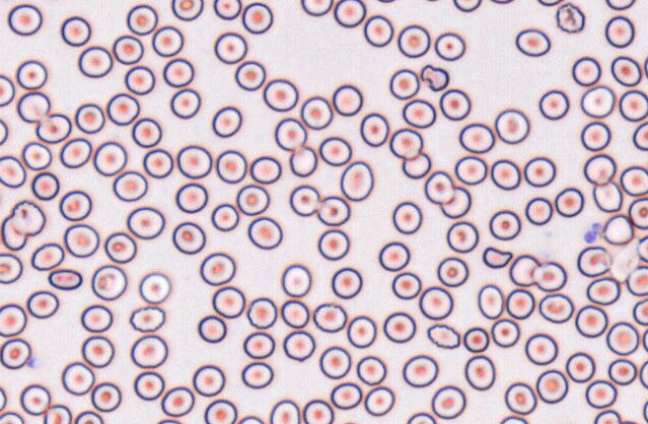PLT: (583, 230, 598, 244), (591, 222, 602, 234)
RBC: (339, 160, 374, 201), (91, 264, 127, 300), (494, 108, 530, 144), (10, 199, 45, 236), (130, 334, 168, 368), (126, 206, 165, 239), (176, 144, 212, 179), (199, 251, 236, 285), (418, 285, 453, 320), (431, 384, 466, 419), (63, 223, 99, 257), (93, 140, 127, 176), (262, 78, 298, 112), (402, 354, 438, 387), (574, 304, 608, 338), (61, 361, 95, 395), (106, 92, 140, 126), (535, 369, 568, 404), (7, 3, 42, 36), (300, 95, 333, 130), (247, 216, 282, 249), (580, 85, 615, 118), (576, 245, 612, 277), (77, 45, 113, 77), (458, 122, 495, 153), (274, 117, 307, 151), (211, 285, 245, 318), (606, 321, 639, 355), (504, 381, 537, 415), (524, 332, 558, 365), (213, 31, 247, 64), (397, 24, 430, 58), (112, 170, 147, 202), (532, 260, 567, 292), (35, 112, 71, 143), (464, 354, 495, 390), (446, 220, 479, 253), (138, 271, 171, 304), (81, 335, 114, 368), (172, 221, 205, 254), (16, 91, 50, 123), (389, 127, 423, 159), (58, 189, 92, 221), (319, 345, 351, 379), (215, 149, 247, 183), (538, 293, 574, 323), (508, 253, 540, 286), (282, 329, 315, 361), (330, 266, 362, 299), (317, 228, 350, 260), (192, 364, 225, 396), (583, 153, 616, 185), (151, 25, 184, 57), (383, 311, 416, 343), (523, 155, 556, 187), (104, 231, 137, 263), (318, 135, 352, 166), (280, 263, 311, 297), (346, 314, 377, 348), (160, 386, 194, 417), (391, 200, 422, 234), (236, 184, 270, 215), (312, 302, 347, 332), (359, 112, 389, 147), (515, 27, 550, 57), (439, 186, 471, 218), (19, 383, 51, 415), (439, 88, 471, 120), (241, 2, 273, 34), (126, 3, 158, 35), (175, 182, 208, 213), (317, 195, 350, 226), (59, 137, 92, 168), (211, 105, 242, 138), (363, 14, 394, 47), (488, 209, 521, 240), (604, 15, 635, 48), (332, 83, 363, 116), (424, 170, 454, 204), (402, 98, 436, 128), (0, 214, 27, 251), (170, 87, 201, 119), (602, 214, 634, 245), (246, 297, 277, 329), (289, 184, 320, 216), (0, 337, 31, 369), (436, 256, 468, 287), (378, 240, 410, 271), (234, 60, 266, 91), (490, 158, 521, 190), (610, 55, 642, 86), (454, 155, 487, 185), (586, 276, 620, 305), (129, 305, 165, 332), (477, 283, 504, 319), (592, 181, 623, 212), (364, 385, 395, 416), (60, 15, 91, 46), (16, 59, 47, 90), (90, 381, 121, 412), (74, 102, 105, 133), (538, 89, 569, 120), (565, 351, 595, 383), (133, 370, 165, 400), (162, 57, 194, 87), (26, 290, 59, 319), (30, 242, 64, 270), (0, 302, 27, 337), (505, 288, 535, 319), (389, 68, 419, 99), (142, 148, 173, 178), (555, 2, 585, 33), (124, 65, 155, 95), (580, 121, 611, 151), (131, 117, 162, 147), (112, 34, 143, 64), (434, 31, 465, 61), (288, 145, 317, 177), (330, 381, 362, 410), (585, 379, 617, 408), (249, 155, 281, 184), (618, 89, 647, 121), (242, 331, 275, 359), (80, 304, 113, 332), (554, 187, 584, 217), (356, 355, 386, 385), (571, 56, 601, 86), (21, 141, 52, 170), (241, 361, 273, 389), (333, 0, 366, 27), (426, 323, 460, 349), (197, 314, 227, 343), (490, 318, 520, 347), (619, 165, 647, 196), (0, 155, 26, 188), (203, 398, 237, 423), (210, 202, 239, 231), (524, 196, 553, 225), (280, 299, 309, 328), (391, 271, 421, 299), (31, 171, 59, 200), (401, 152, 431, 179), (47, 267, 82, 290), (302, 398, 334, 423), (607, 358, 636, 385), (269, 398, 300, 423), (0, 252, 23, 284), (462, 326, 489, 352), (171, 0, 203, 21), (626, 265, 647, 296), (628, 197, 647, 229), (42, 403, 72, 423), (213, 0, 241, 20), (300, 0, 333, 16), (0, 74, 15, 106), (632, 121, 647, 151), (632, 298, 647, 325), (73, 410, 104, 423), (593, 409, 621, 423), (406, 411, 436, 423), (452, 0, 481, 12), (0, 410, 24, 423), (605, 0, 636, 10), (636, 235, 647, 262), (499, 414, 528, 423), (639, 360, 647, 389), (0, 118, 8, 145), (237, 415, 264, 423), (0, 386, 7, 411), (537, 0, 563, 6), (642, 327, 648, 352), (642, 399, 648, 423), (156, 418, 181, 423), (643, 55, 648, 78), (338, 420, 364, 424), (489, 0, 514, 4), (619, 419, 639, 423), (375, 0, 397, 3), (420, 0, 441, 2)
Schistocyte: (421, 64, 450, 92), (483, 244, 514, 269)
